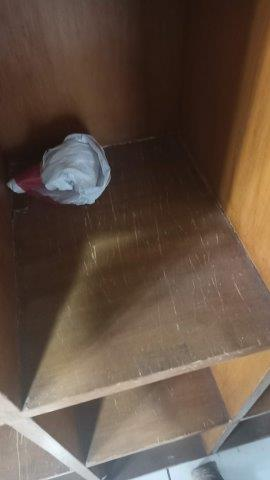plastik: (9, 131, 113, 208)
